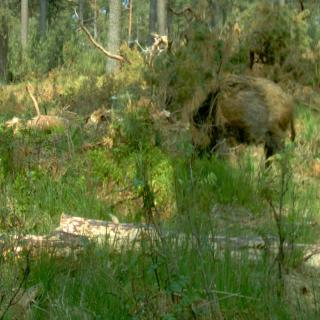Pig: (191, 76, 295, 180)
